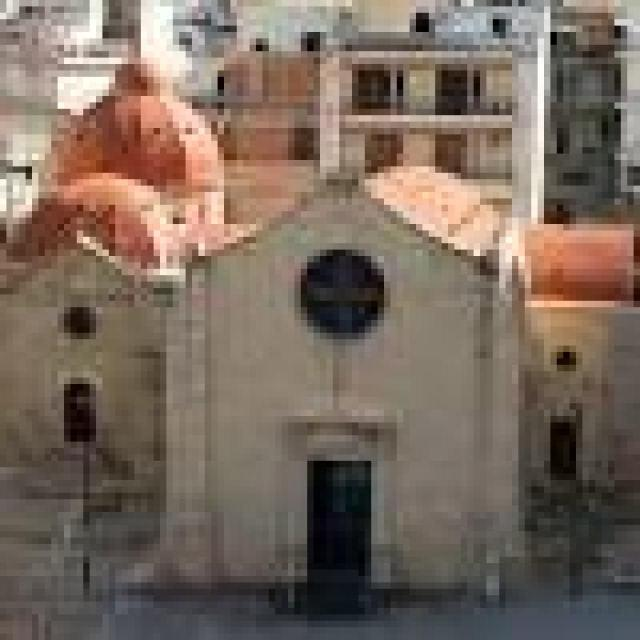Agia Aikaterini: (1, 66, 640, 614)
